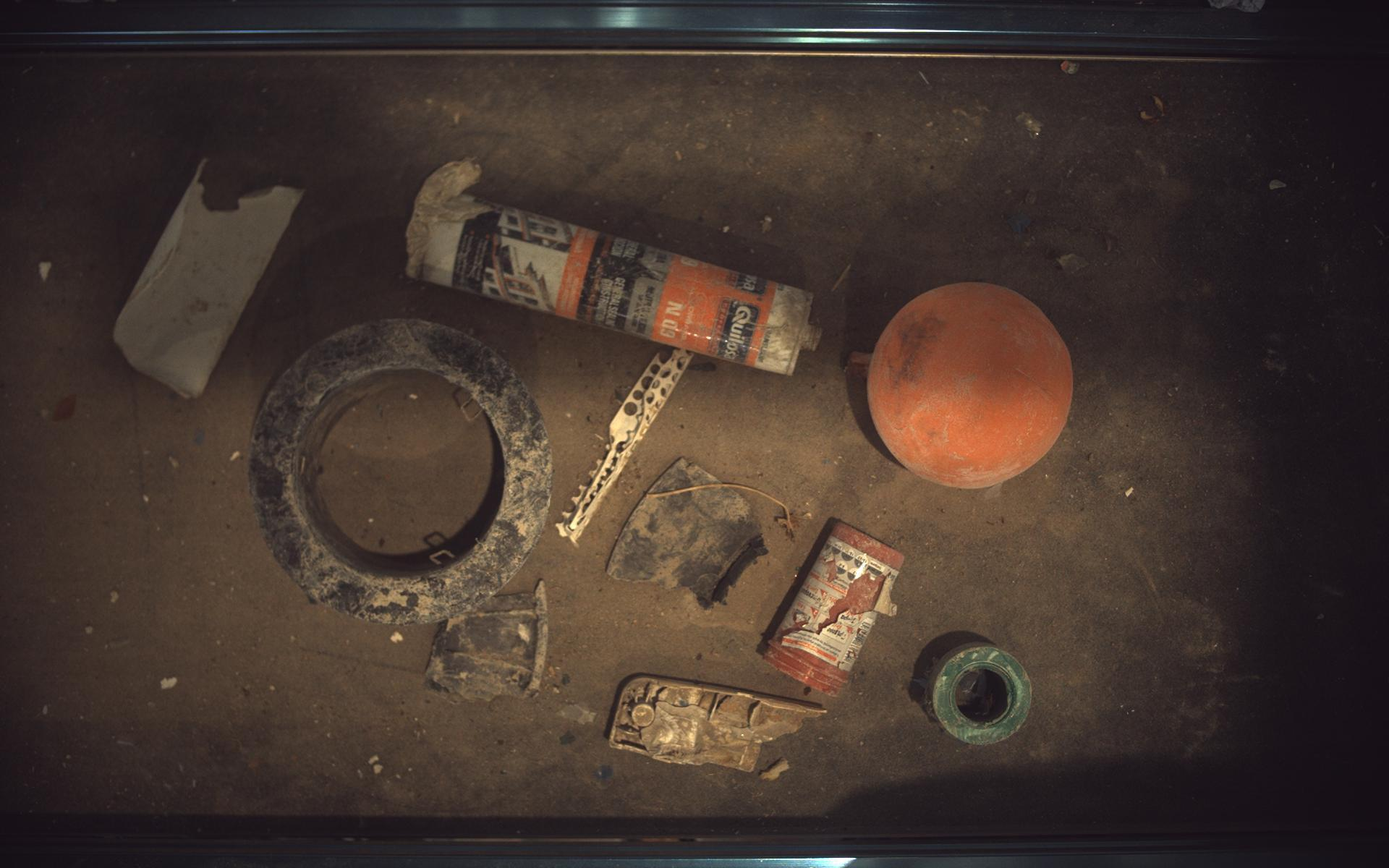plastic: (248, 319, 553, 625), (408, 161, 816, 375), (113, 158, 303, 398), (870, 282, 1075, 489), (556, 348, 694, 544), (761, 522, 906, 697), (608, 458, 769, 609), (609, 676, 828, 773), (426, 582, 549, 702), (926, 642, 1035, 746)
